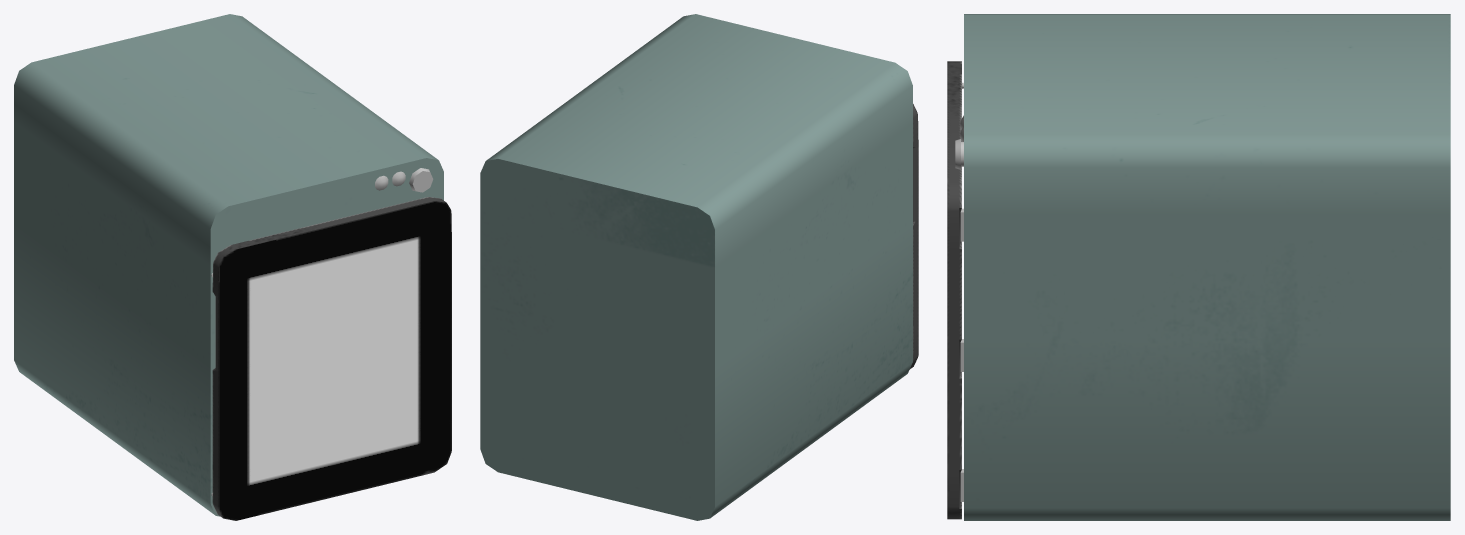
File: dryer.fbx
The picture shows the model from 3 angles, left to right: view 1: azimuth 30°, elevation 25°; view 2: azimuth 150°, elevation 25°; view 3: azimuth 270°, elevation 25°; orthographic projection. The views are drawn at different scales.
Visible parts, largest first — view 1: dryer_part_3, dryer_part_2; view 2: dryer_part_3, dryer_part_2; view 3: dryer_part_3, dryer_part_2.
Boxes of the visible parts, x1=… form: dryer_part_3: x1=14, y1=14, x2=443, y2=516; dryer_part_2: x1=212, y1=197, x2=451, y2=520; dryer_part_3: x1=480, y1=14, x2=912, y2=520; dryer_part_2: x1=909, y1=104, x2=918, y2=369; dryer_part_3: x1=964, y1=14, x2=1450, y2=520; dryer_part_2: x1=947, y1=61, x2=961, y2=519.
Bounding box in the file's own units: 58.81 × 74.71 × 88.34.
1 material, 1 textured.
